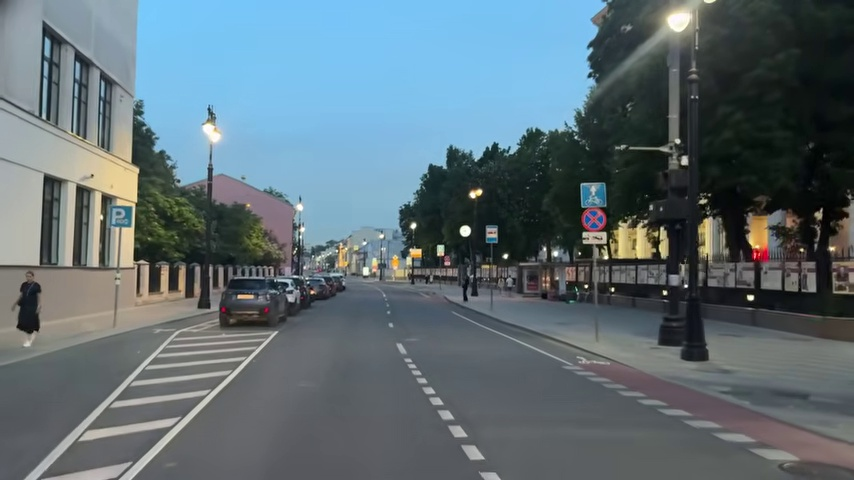acesa: (663, 8, 694, 35), (203, 120, 221, 144), (467, 186, 483, 202)
